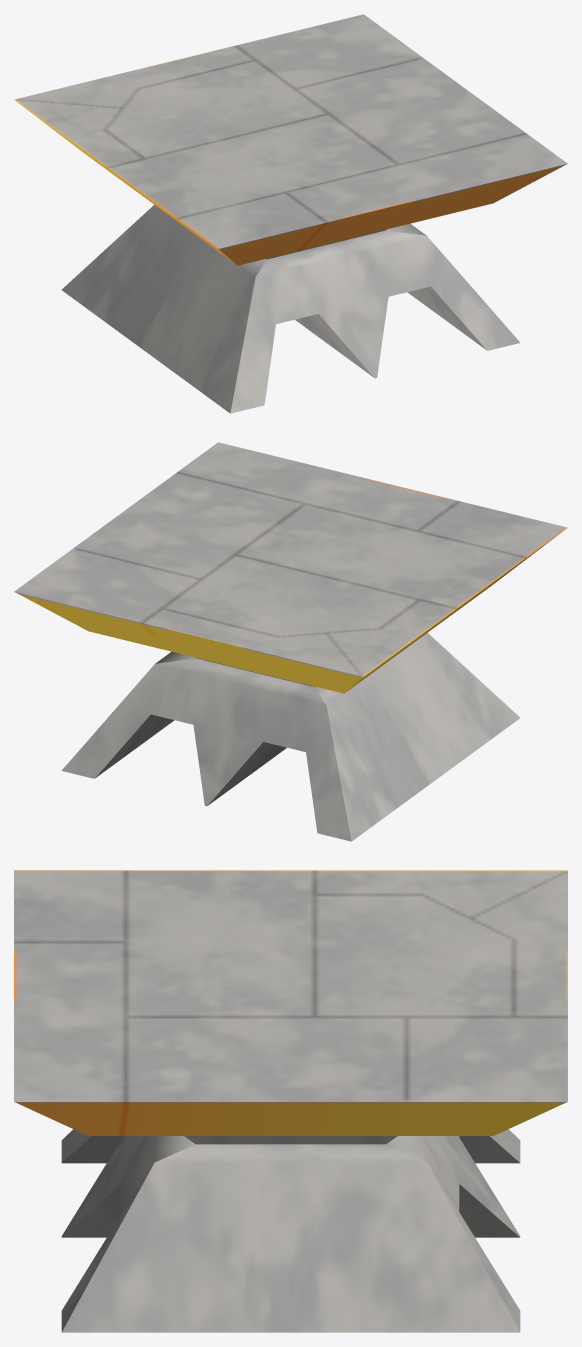
File: Pad_03_Base.fbx
The picture shows the model from 3 angles, top to bottom: view 1: azimuth 30°, elevation 25°; view 2: azimuth 150°, elevation 25°; view 3: azimuth 270°, elevation 25°; orthographic projection. The views are drawn at different scales.
Visible parts, largest first — view 1: Pad_03, Pad_03_Base; view 2: Pad_03, Pad_03_Base; view 3: Pad_03, Pad_03_Base.
Part boxes in pixels (box(x1,y1,x2,y2)): Pad_03: box(14, 14, 567, 265); Pad_03_Base: box(61, 205, 520, 413); Pad_03: box(14, 442, 567, 693); Pad_03_Base: box(61, 633, 520, 841); Pad_03: box(14, 870, 567, 1144); Pad_03_Base: box(61, 1129, 520, 1332).
Size of the model in its own units: 20.03 by 10.11 by 20.25.
